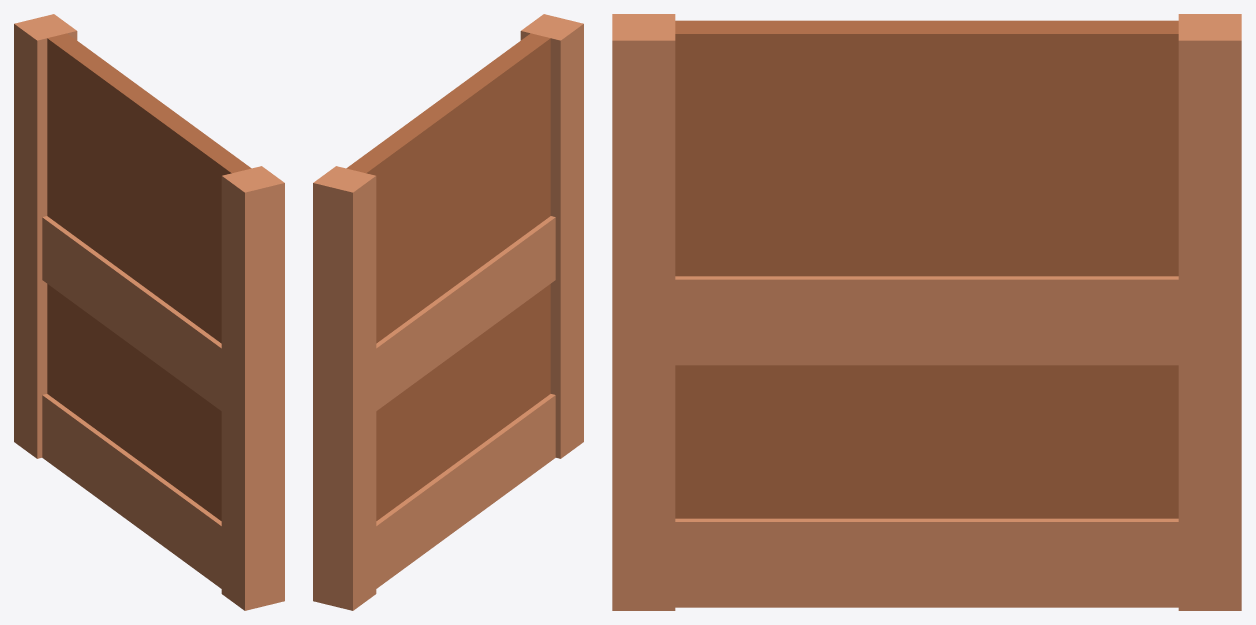
The model's file is wallWoodDetailHorizontal.glb.
3 renders of one model, left to right at view 1: azimuth 30°, elevation 25°; view 2: azimuth 150°, elevation 25°; view 3: azimuth 270°, elevation 25°, orthographic. The views are drawn at different scales.
Parts seen in each view (by area): view 1: wallWoodDetailHorizontal; view 2: wallWoodDetailHorizontal; view 3: wallWoodDetailHorizontal.
Boxes of the visible parts, x1,y1,x2,y2 form: wallWoodDetailHorizontal: [14, 14, 284, 610]; wallWoodDetailHorizontal: [313, 14, 583, 610]; wallWoodDetailHorizontal: [612, 14, 1241, 610].
Bounding box in the file's own units: 0.1 × 1 × 1.
